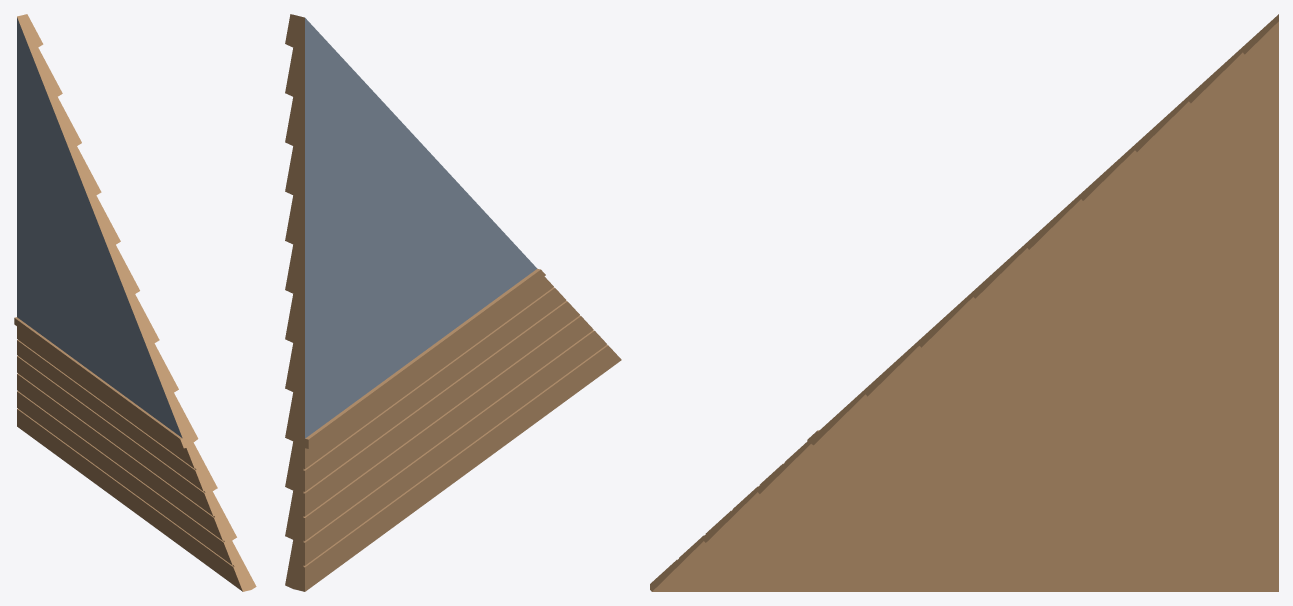
The model's file is Triangle Wall B.glb.
The picture shows the model from 3 angles, left to right: view 1: azimuth 30°, elevation 25°; view 2: azimuth 150°, elevation 25°; view 3: azimuth 270°, elevation 25°; orthographic projection. The views are drawn at different scales.
Parts seen in each view (by area): view 1: Triangle Wall B; view 2: Triangle Wall B; view 3: Triangle Wall B.
Boxes of the visible parts, x1,y1,x2,y2 form: Triangle Wall B: [14, 14, 256, 591]; Triangle Wall B: [285, 14, 621, 591]; Triangle Wall B: [650, 14, 1278, 591].
Bounding box in the file's own units: 13.78 × 321 × 321.
